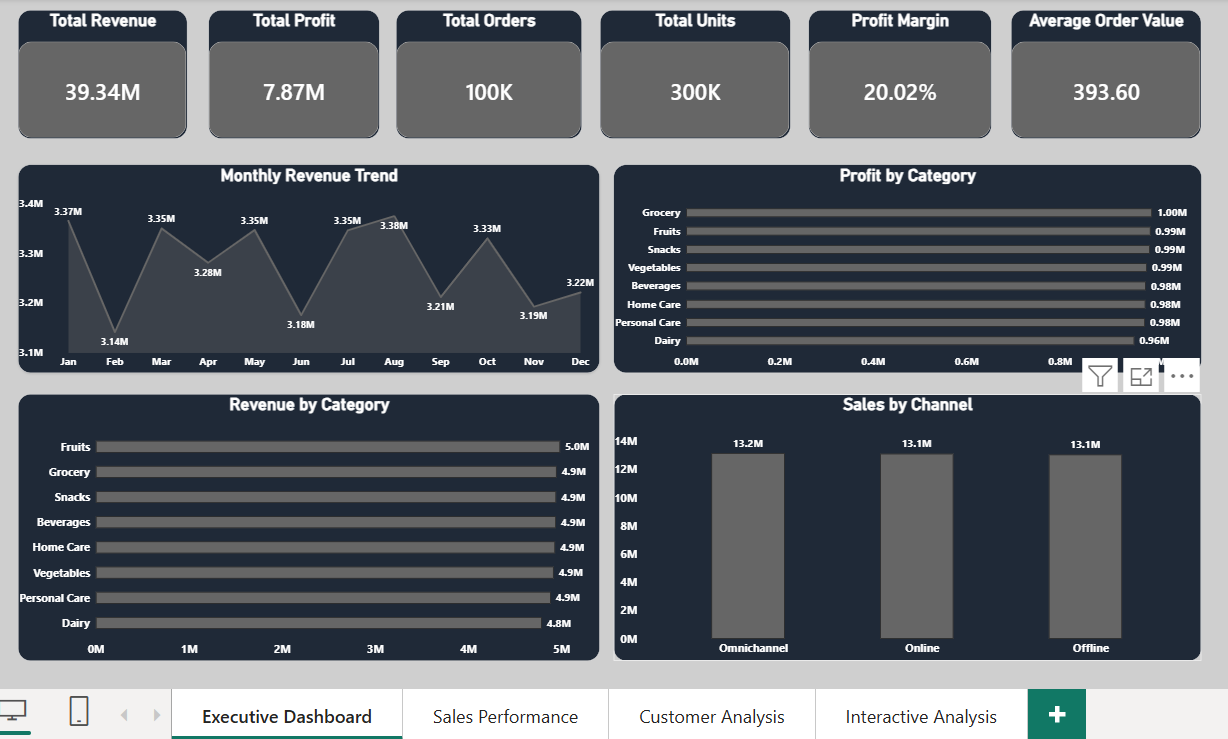

Layout of this report page (visuals, bound fields, positions):
{"tool":"powerbi","page":{"name":"Executive Dashboard","canvas":[1920,1080],"ordinal":0},"visuals":[{"type":"cardVisual","title":"Total Revenue","fields":{"Data":["Fact sales.Total Revenue"]},"box":[28.1,18.8,264.9,201.6],"z":0},{"type":"cardVisual","title":"Total Profit","fields":{"Data":["Fact sales.Total Profit"]},"box":[325.9,18.8,267.3,201.6],"z":1000},{"type":"cardVisual","title":"Total Orders","fields":{"Data":["Fact sales.Total orders"]},"box":[618.9,18.8,290.7,201.6],"z":2000},{"type":"cardVisual","title":"Profit Margin","fields":{"Data":["Fact sales.Profit Magin"]},"box":[1263.7,18.8,286,201.6],"z":3000},{"type":"cardVisual","title":"Total Units","fields":{"Data":["Fact sales.Total Units"]},"box":[937.8,18.8,297.7,201.6],"z":4000},{"type":"cardVisual","title":"Average Order Value","fields":{"Data":["Fact sales.Avg order value"]},"box":[1580.2,18.8,297.6,201.3],"z":5000},{"type":"lineChart","title":"Monthly Revenue Trend","fields":{"Category":["DimDate.Month"],"Y":["Fact sales.Total Revenue"]},"box":[28.1,260.2,909.7,325.9],"z":6000},{"type":"clusteredBarChart","title":"Revenue by Category","fields":{"Category":["Fact sales.Category"],"Y":["Fact sales.Total Revenue"]},"box":[28.1,618.9,909.7,417.3],"z":7000},{"type":"clusteredBarChart","title":"Profit by Category","fields":{"Category":["Fact sales.Category"],"Y":["Fact sales.Total Profit"]},"box":[958.9,260.2,919,325.9],"z":8000},{"type":"clusteredColumnChart","title":"Sales by Channel","fields":{"Category":["Fact sales.Channel"],"Y":["Fact sales.Total Revenue"]},"box":[959,619,919,417],"z":9000}]}

Visuals, with their boxes on the page's 1920x1080 design canvas (x1, y1, x2, y2). These are canvas units, not pixel positions in the 1228x739 screenshot, which may show the page scaled, cropped or inside an application window:
"Total Revenue" cardVisual: 28 19 293 220
"Total Profit" cardVisual: 326 19 593 220
"Total Orders" cardVisual: 619 19 910 220
"Profit Margin" cardVisual: 1264 19 1550 220
"Total Units" cardVisual: 938 19 1236 220
"Average Order Value" cardVisual: 1580 19 1878 220
"Monthly Revenue Trend" lineChart: 28 260 938 586
"Revenue by Category" clusteredBarChart: 28 619 938 1036
"Profit by Category" clusteredBarChart: 959 260 1878 586
"Sales by Channel" clusteredColumnChart: 959 619 1878 1036
